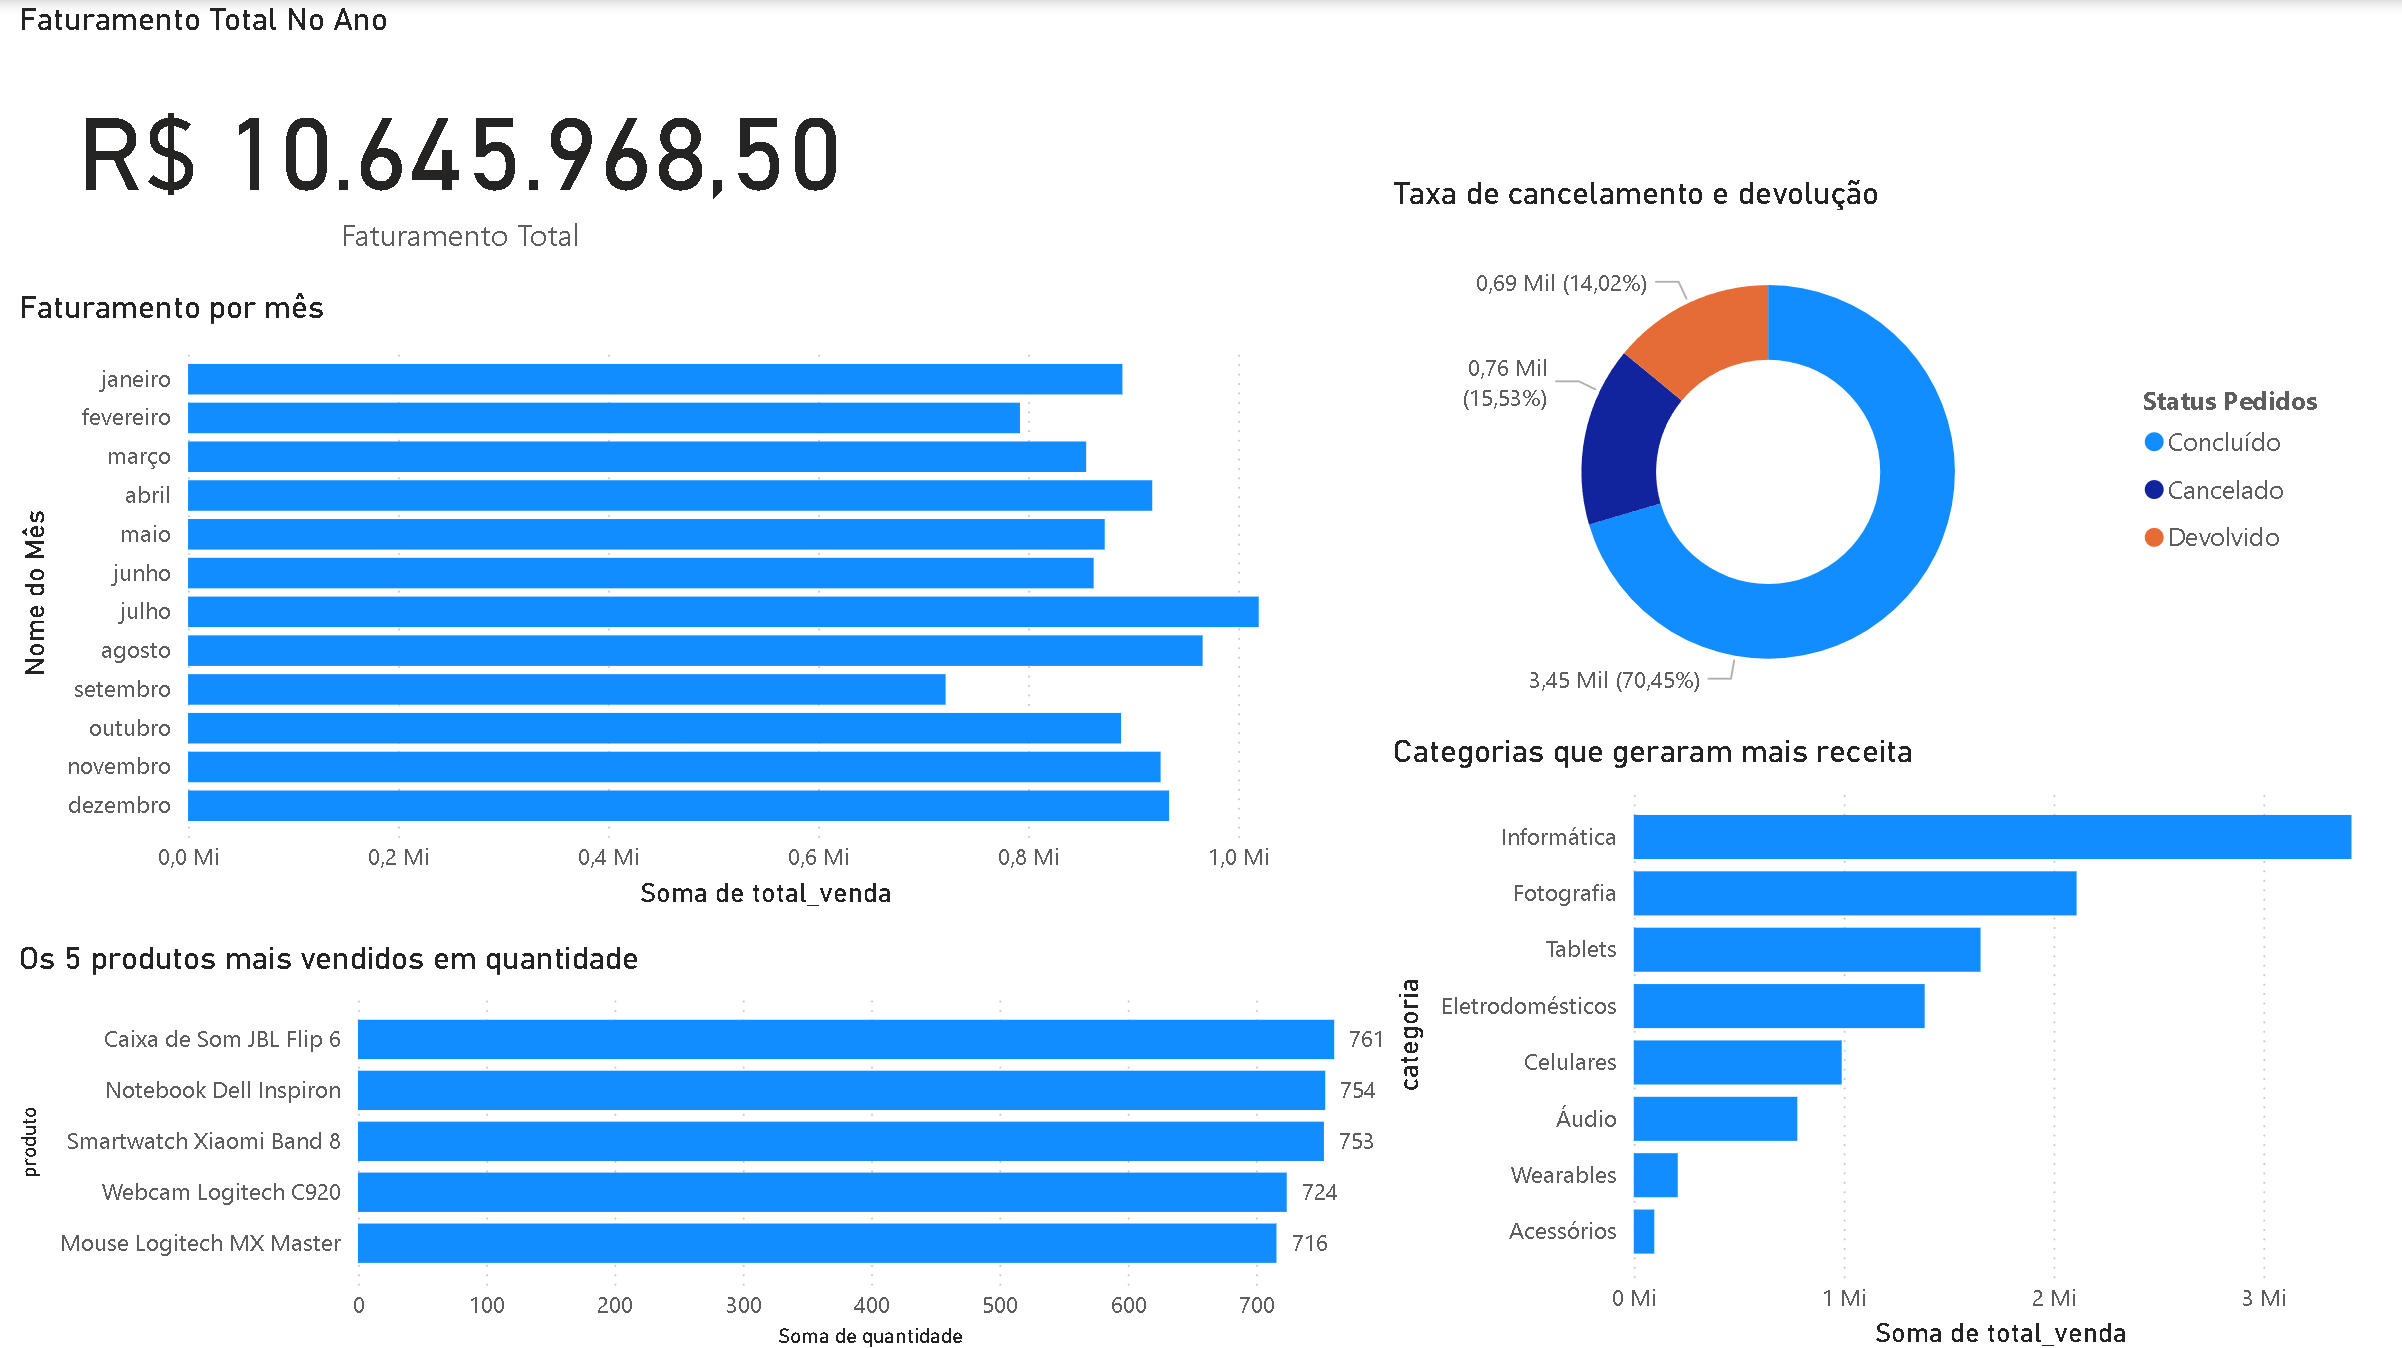

The page's visual inventory and layout, read from the dashboard file:
{"tool":"powerbi","page":{"name":"Página 1","canvas":[1280,720],"ordinal":0},"visuals":[{"type":"card","title":"Faturamento Total No Ano","fields":{"Values":["vendas_limpa2.Faturamento Total"]},"box":[10.2,0,477.5,152.4],"z":0},{"type":"clusteredBarChart","title":"Faturamento por mês","fields":{"Category":["vendas_limpa2.Nome do Mês"],"Y":["Sum(vendas_limpa2.total_venda)"]},"box":[10.2,152.4,727.4,333.2],"z":1000},{"type":"donutChart","title":"Taxa de cancelamento e devolução","fields":{"Category":["vendas_limpa2.status_pedido"],"Y":["CountNonNull(vendas_limpa2.id_pedido)"]},"box":[737.5,91.4,516.1,296.6],"z":2000},{"type":"clusteredBarChart","title":"Os 5 produtos mais vendidos em quantidade","fields":{"Category":["vendas_limpa2.produto"],"Y":["Sum(vendas_limpa2.quantidade)"]},"box":[10.2,497.8,741.6,221.5],"z":3000},{"type":"clusteredBarChart","title":"Categorias que geraram mais receita","fields":{"Category":["vendas_limpa2.categoria"],"Y":["Sum(vendas_limpa2.total_venda)"]},"box":[737.5,388.1,542.5,331.2],"z":4000}]}

Visuals, with their boxes in screenshot pixels (x1, y1, x2, y2), scaled from the page's 1280x720 canvas onto the 2402x1348 screenshot:
"Faturamento Total No Ano" card: region(19, 0, 915, 285)
"Faturamento por mês" clusteredBarChart: region(19, 285, 1384, 909)
"Taxa de cancelamento e devolução" donutChart: region(1384, 171, 2352, 726)
"Os 5 produtos mais vendidos em quantidade" clusteredBarChart: region(19, 932, 1411, 1347)
"Categorias que geraram mais receita" clusteredBarChart: region(1384, 727, 2401, 1347)
